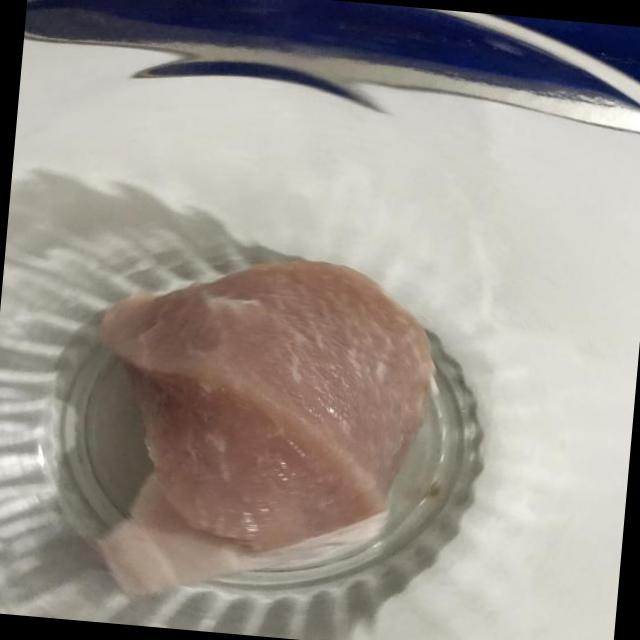chicken: (82, 238, 454, 608)
